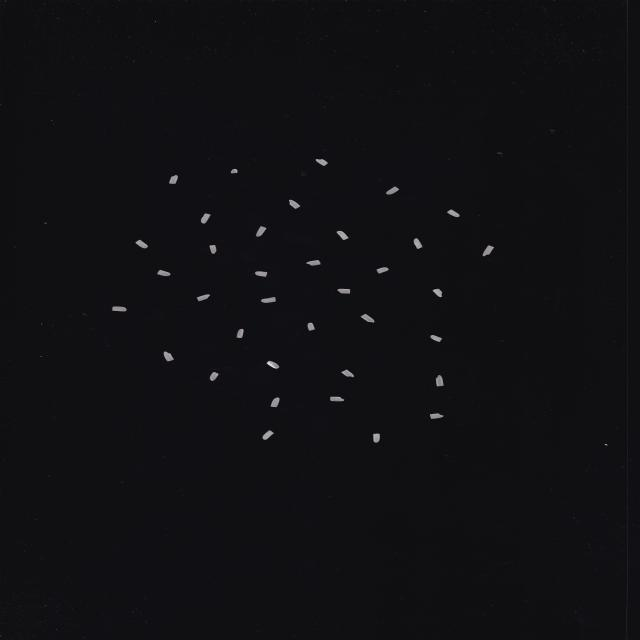Not: (360, 314, 374, 323), (288, 200, 300, 210), (482, 246, 494, 256), (262, 430, 274, 440), (386, 186, 399, 195), (266, 361, 280, 369), (256, 226, 266, 237), (201, 213, 211, 224), (413, 238, 423, 249), (163, 352, 174, 362), (337, 231, 349, 240), (135, 240, 148, 248), (341, 370, 354, 378), (432, 288, 442, 298), (270, 398, 280, 408), (435, 375, 444, 386), (197, 294, 210, 301), (376, 267, 389, 274), (447, 210, 460, 217), (306, 260, 321, 266), (261, 297, 276, 303), (316, 159, 328, 166), (112, 306, 126, 312), (430, 335, 442, 342), (330, 396, 344, 402), (430, 413, 444, 419), (169, 175, 178, 184), (157, 270, 170, 276), (337, 288, 350, 294), (209, 245, 217, 254), (255, 271, 267, 277), (236, 329, 244, 338), (210, 372, 218, 381), (373, 433, 380, 443), (307, 322, 315, 330), (230, 169, 238, 173)
